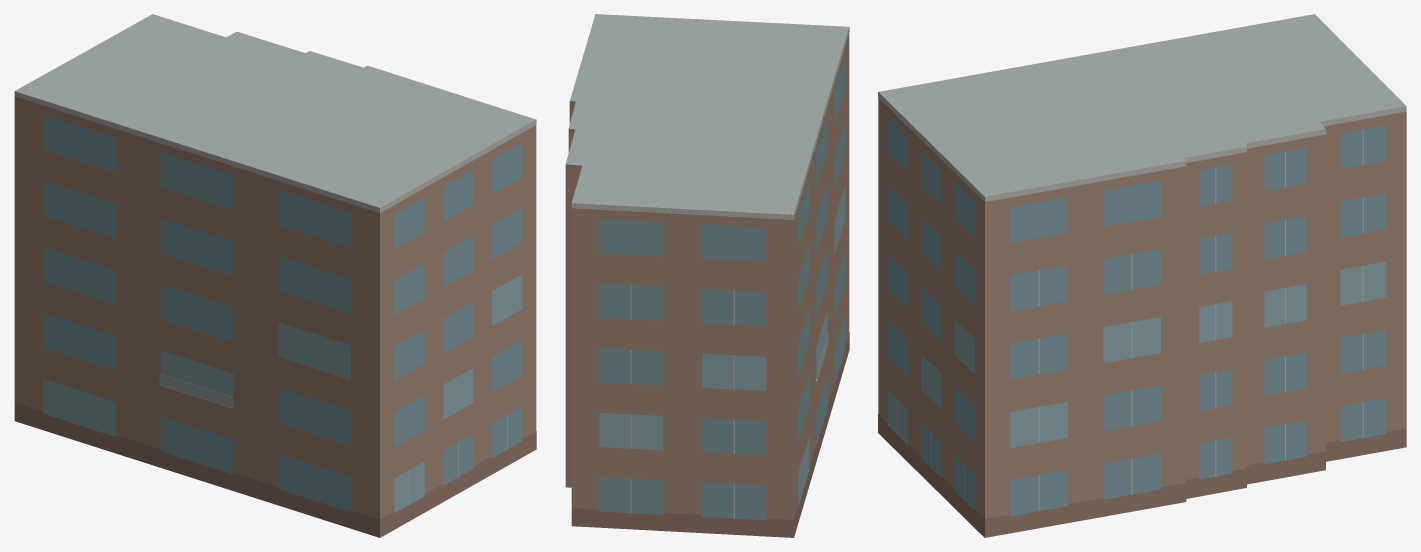
File: survey-upis-32759092.glb
The picture shows the model from 3 angles, left to right: view 1: azimuth 30°, elevation 25°; view 2: azimuth 150°, elevation 25°; view 3: azimuth 270°, elevation 25°; orthographic projection. The views are drawn at different scales.
Parts seen in each view (by area): view 1: survey-upis-32759092.tmp; view 2: survey-upis-32759092.tmp; view 3: survey-upis-32759092.tmp.
Boxes of the visible parts, x1,y1,x2,y2 form: survey-upis-32759092.tmp: [14, 14, 536, 537]; survey-upis-32759092.tmp: [565, 14, 849, 537]; survey-upis-32759092.tmp: [878, 14, 1406, 537].
Bounding box in the file's own units: 17.71 × 15.4 × 21.63.
